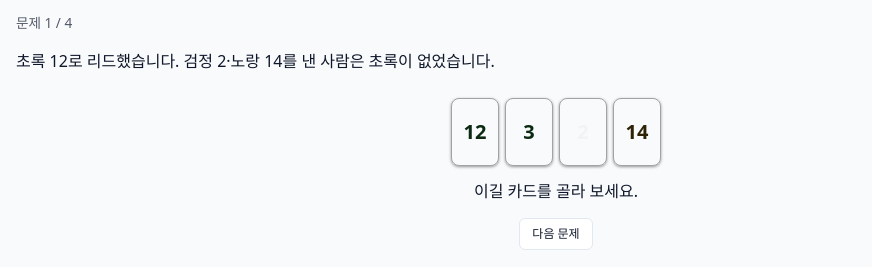
Test: TrickQuiz › 문제를 넘기면 선택과 해설이 초기화된다
This screenshot has width=872, height=267.
Click the button named "검정 2". click: (583, 132)
box: [559, 98, 607, 166]
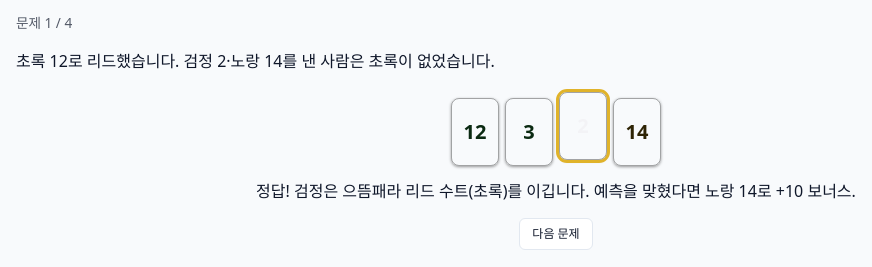
Click the button "다음 문제". click: (556, 234)
box: [519, 218, 593, 250]
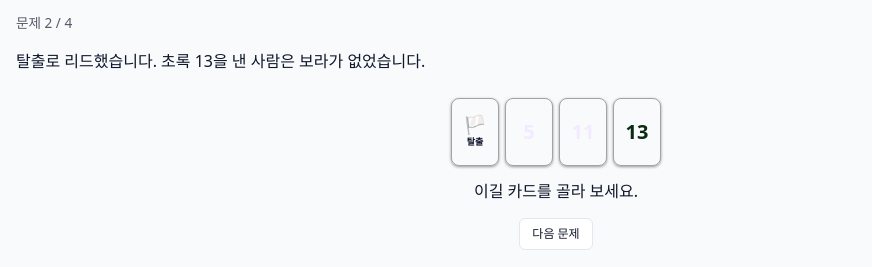
Expected: the message no longer shows "정답", [474, 180, 638, 202]
